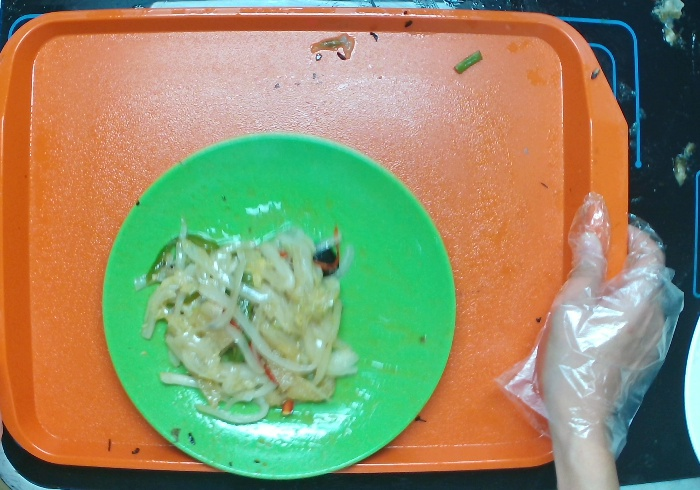HZYJPL-Lv_Se_Yuan_Pan: (92, 124, 462, 486)
